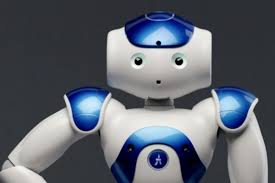nao: (1, 8, 272, 183)
